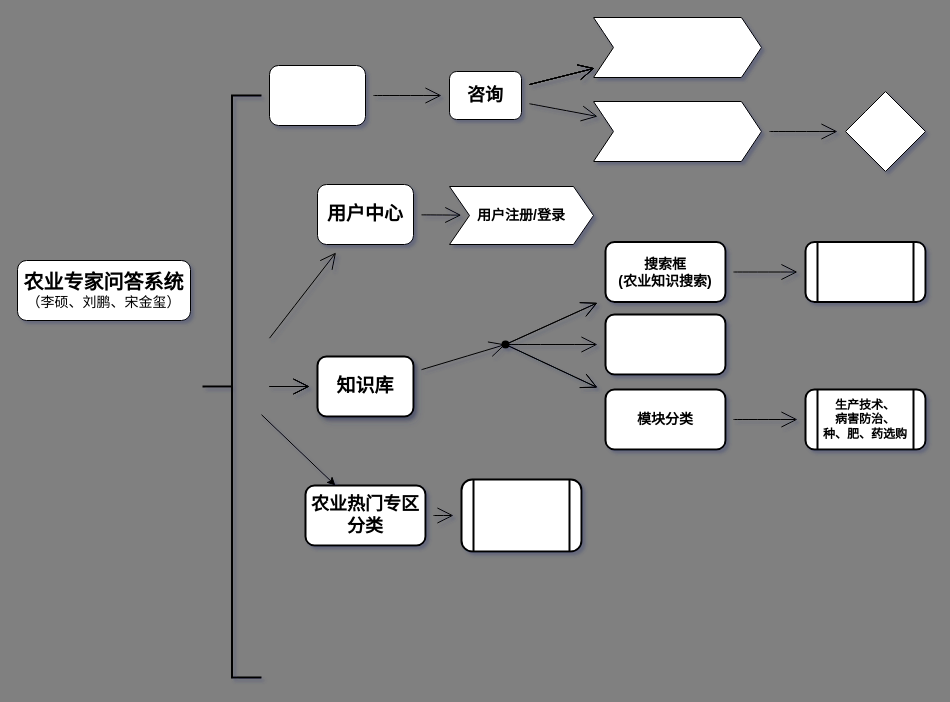
This 950x702 diagram has some shape labels left out. Here are the shapes that lost their labels. From the top down, the centre of each, then its label:
At point (677, 47): "在线咨询 （调用大模型生成）".
At point (317, 95): "首页".
At point (677, 131): "专家咨询 （后台人工服务）".
At point (865, 271): "es搜索 agent tools".
At point (521, 515): "玉米专区、 水稻专区、 经济作物专区(如辣椒、葵花等)".
